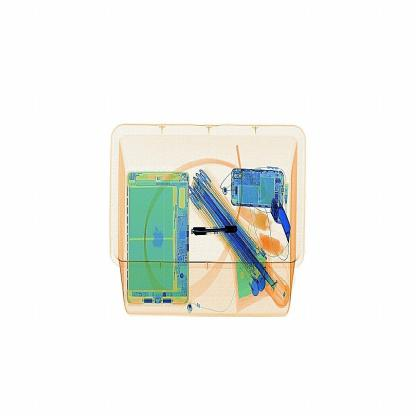knife: (184, 209, 242, 250)
